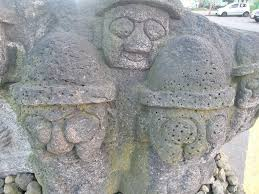Stone Statue: (128, 32, 245, 194), (6, 25, 117, 194)
